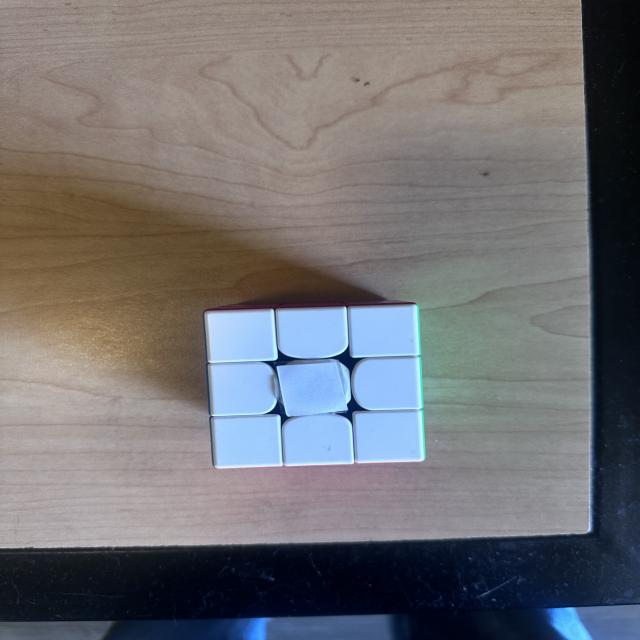sticker: (350, 407, 428, 467), (346, 301, 422, 362), (208, 412, 286, 471), (273, 305, 352, 362), (279, 411, 358, 468), (350, 355, 426, 413), (206, 361, 282, 418), (279, 362, 348, 410), (205, 312, 276, 358)
